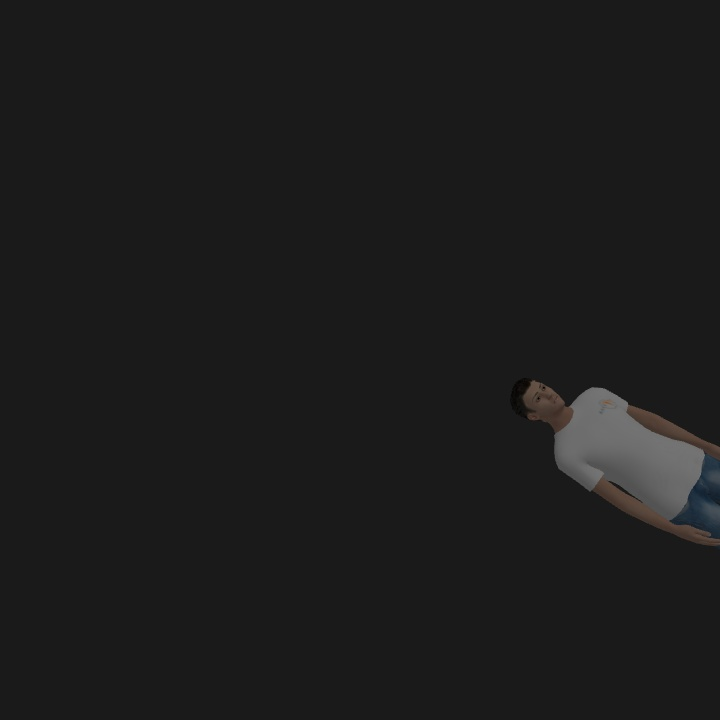victim: (511, 373, 720, 542)
